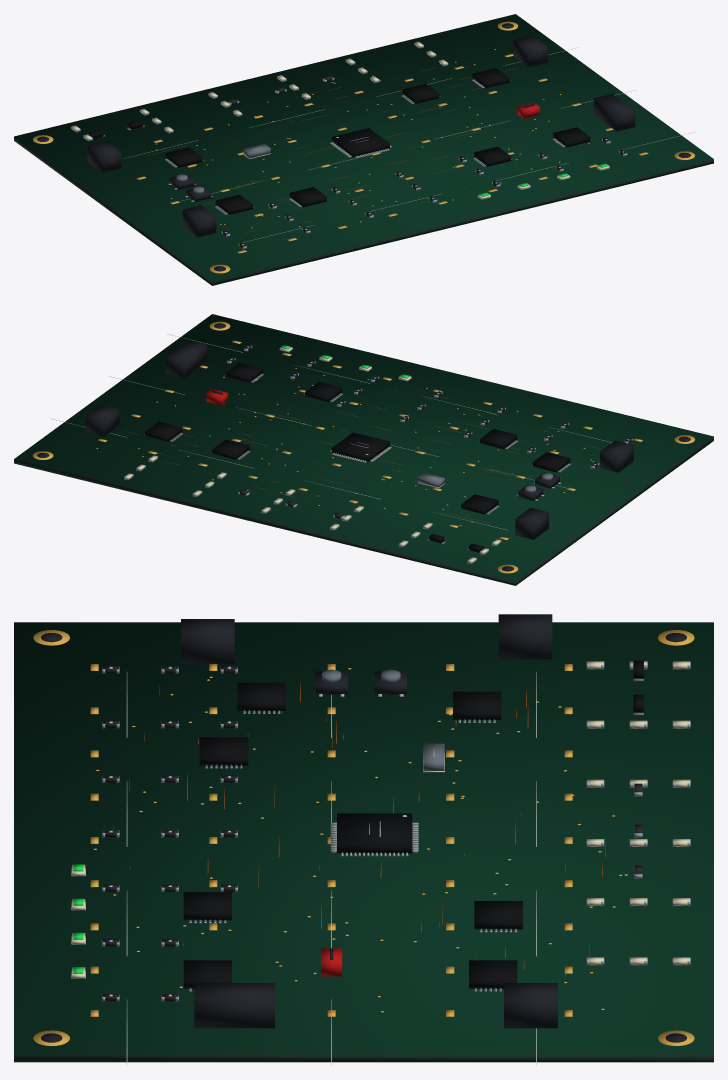
File: L99_COMPLETE_BOARD_VISUAL_REFERENCE_ONLY.fbx
3 renders of one model, top to bottom at view 1: azimuth 30°, elevation 25°; view 2: azimuth 150°, elevation 25°; view 3: azimuth 270°, elevation 25°, orthographic. The views are drawn at different scales.
Parts seen in each view (by area): view 1: Part_602, Part_601, Part_532, Part_000, Part_514, Part_523, Part_545, Part_342, Part_237, Part_202, Part_167, Part_272 (+2 smaller); view 2: Part_602, Part_601, Part_532, Part_000, Part_523, Part_545, Part_514, Part_307, Part_342, Part_132, Part_167, Part_202 (+2 smaller); view 3: Part_602, Part_601, Part_532, Part_000, Part_514, Part_523, Part_545, Part_237, Part_342, Part_202, Part_272, Part_132 (+2 smaller).
Boxes of the visible parts, <box> form: Part_602: <box>14,14,712,281</box>; Part_601: <box>14,17,713,285</box>; Part_532: <box>593,94,635,131</box>; Part_000: <box>331,128,389,157</box>; Part_514: <box>87,140,121,172</box>; Part_523: <box>513,35,547,67</box>; Part_545: <box>182,205,216,237</box>; Part_342: <box>215,194,253,214</box>; Part_237: <box>289,187,327,207</box>; Part_202: <box>165,147,202,167</box>; Part_167: <box>472,68,509,88</box>; Part_272: <box>474,146,511,166</box>; Part_602: <box>15,314,713,581</box>; Part_601: <box>14,317,713,585</box>; Part_532: <box>166,340,207,377</box>; Part_000: <box>331,432,389,461</box>; Part_523: <box>86,404,119,436</box>; Part_545: <box>600,440,633,472</box>; Part_514: <box>515,507,548,539</box>; Part_307: <box>225,362,263,382</box>; Part_342: <box>532,452,570,472</box>; Part_132: <box>212,439,249,459</box>; Part_167: <box>145,421,182,441</box>; Part_202: <box>461,494,498,514</box>; Part_602: <box>14,622,713,1054</box>; Part_601: <box>14,622,713,1062</box>; Part_532: <box>194,983,274,1028</box>; Part_000: <box>337,813,412,853</box>; Part_514: <box>498,614,552,659</box>; Part_523: <box>504,983,557,1028</box>; Part_545: <box>181,619,234,663</box>; Part_237: <box>199,737,248,765</box>; Part_342: <box>237,682,285,710</box>; Part_202: <box>453,691,501,719</box>; Part_272: <box>183,892,231,920</box>; Part_132: <box>474,901,522,929</box>.
Size of the model in its own units: 0.195 by 0.13 by 0.0081.
